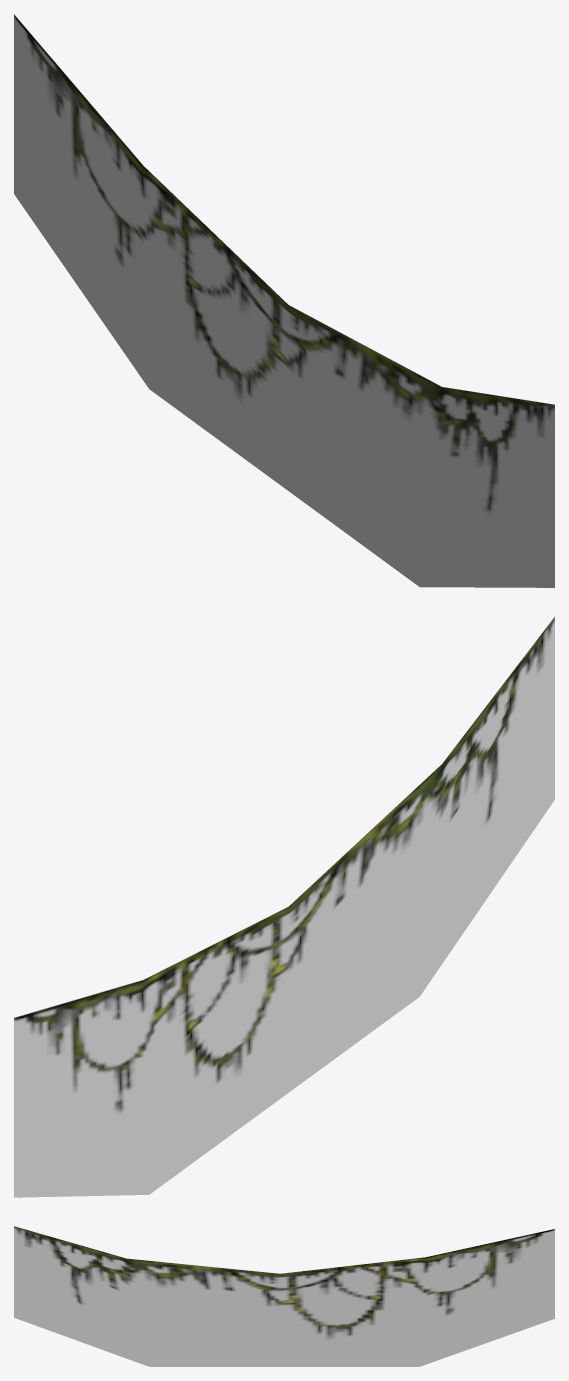
Rendered from Kabel_Dreckig_1548.glb.
3 views of the same model, one above another, from view 1: azimuth 30°, elevation 25°; view 2: azimuth 150°, elevation 25°; view 3: azimuth 270°, elevation 25° (orthographic). The views are drawn at different scales.
Parts seen in each view (by area): view 1: pPlaneShape36; view 2: pPlaneShape36; view 3: pPlaneShape36.
Boxes of the visible parts, x1,y1,x2,y2 form: pPlaneShape36: (14,14,554,587); pPlaneShape36: (14,617,554,1197); pPlaneShape36: (14,1226,554,1366).
Bounding box in the file's own units: 2.98e-08 × 0.2871 × 1.
Materials: 1 (1 with a texture image).
